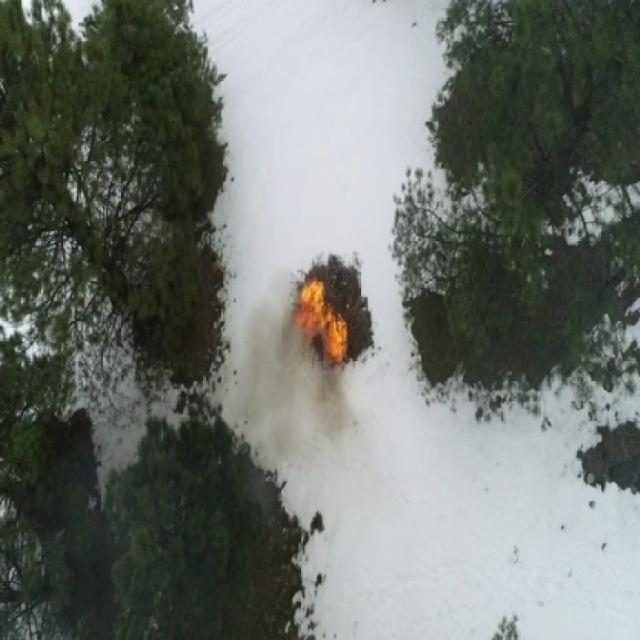Fire: (314, 305, 351, 367), (294, 282, 323, 336)
